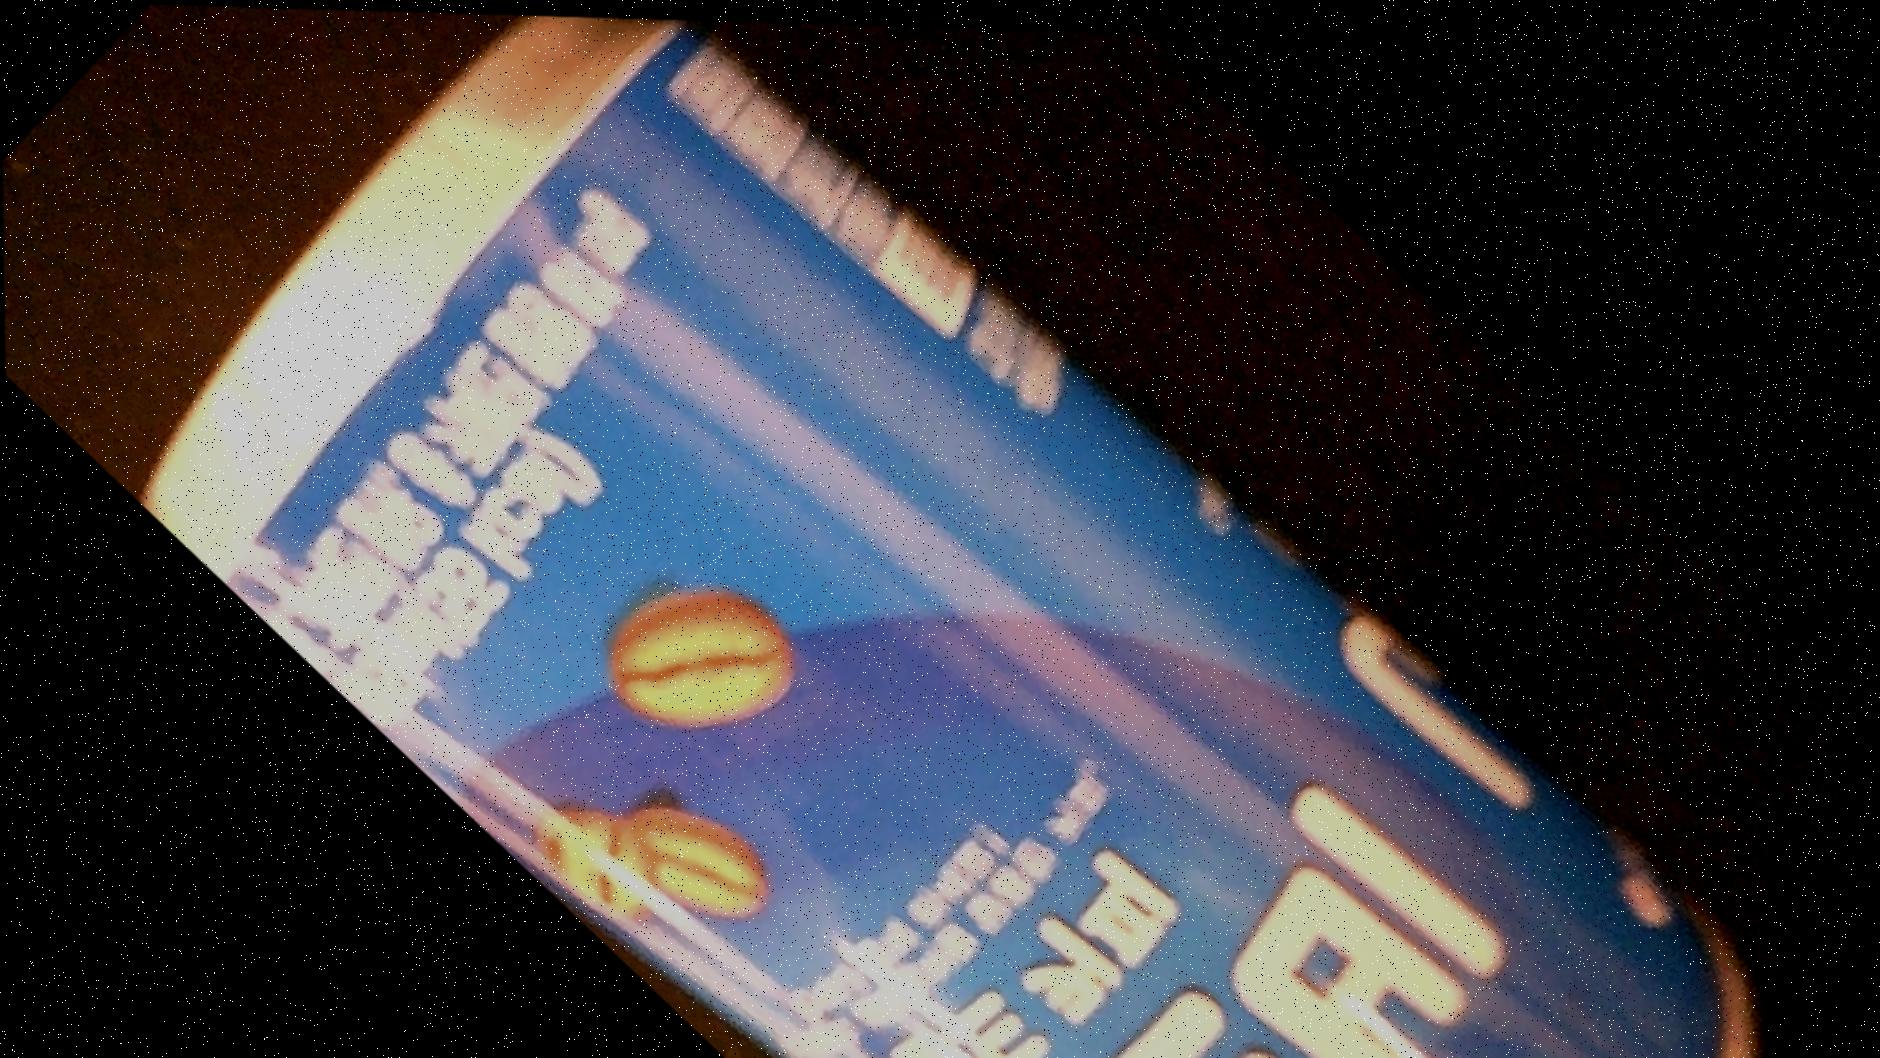letsbe: (83, 1, 1831, 1058)
